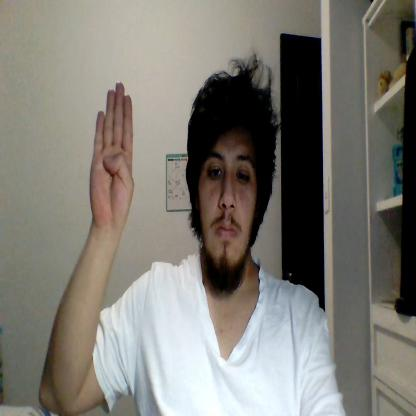B: (90, 80, 135, 230)
